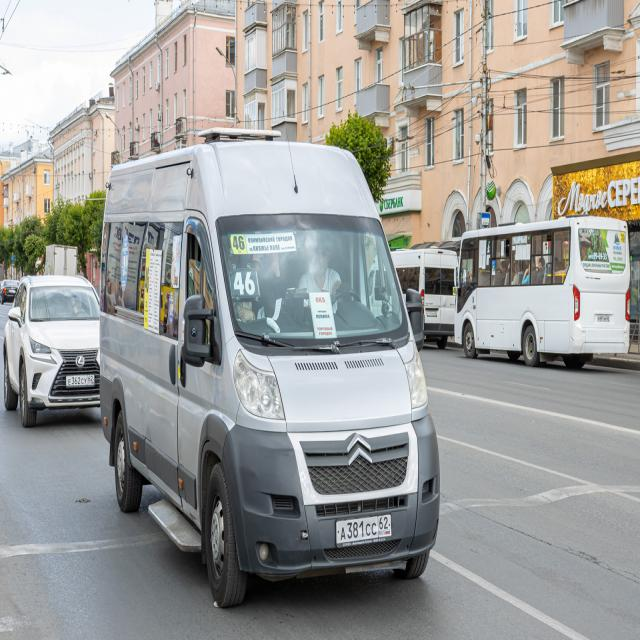number-of-bus: (233, 270, 257, 297), (233, 235, 245, 253)
